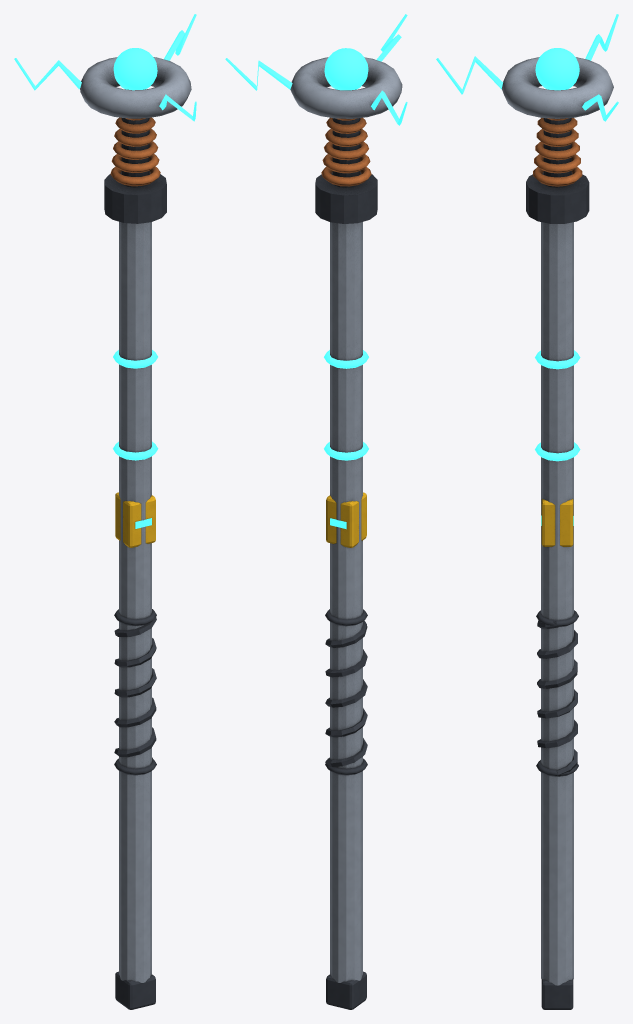
Rendered from 11_mechanical_magic.fbx.
3 renders of one model, left to right at view 1: azimuth 30°, elevation 25°; view 2: azimuth 150°, elevation 25°; view 3: azimuth 270°, elevation 25°, orthographic.
Parts seen in each view (by area): view 1: Weapon; view 2: Weapon; view 3: Weapon.
Boxes of the visible parts, left/top/right/bottom form: Weapon: left=14, top=14, right=196, bottom=1009; Weapon: left=225, top=14, right=407, bottom=1009; Weapon: left=436, top=14, right=618, bottom=1009.
Bounding box in the file's own units: 33.58 × 168 × 29.18.
2 materials, 1 textured.
